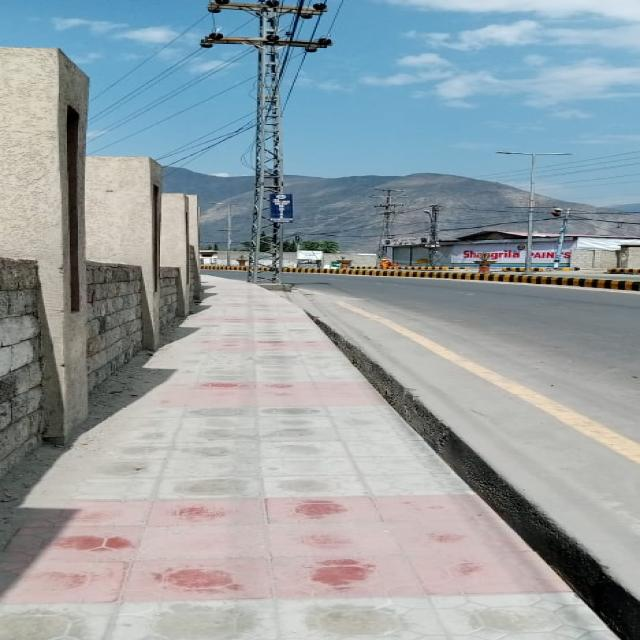Left-Turn: (194, 260, 249, 282)
